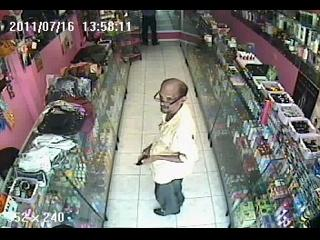Normal: (137, 78, 200, 216), (140, 10, 160, 46)
